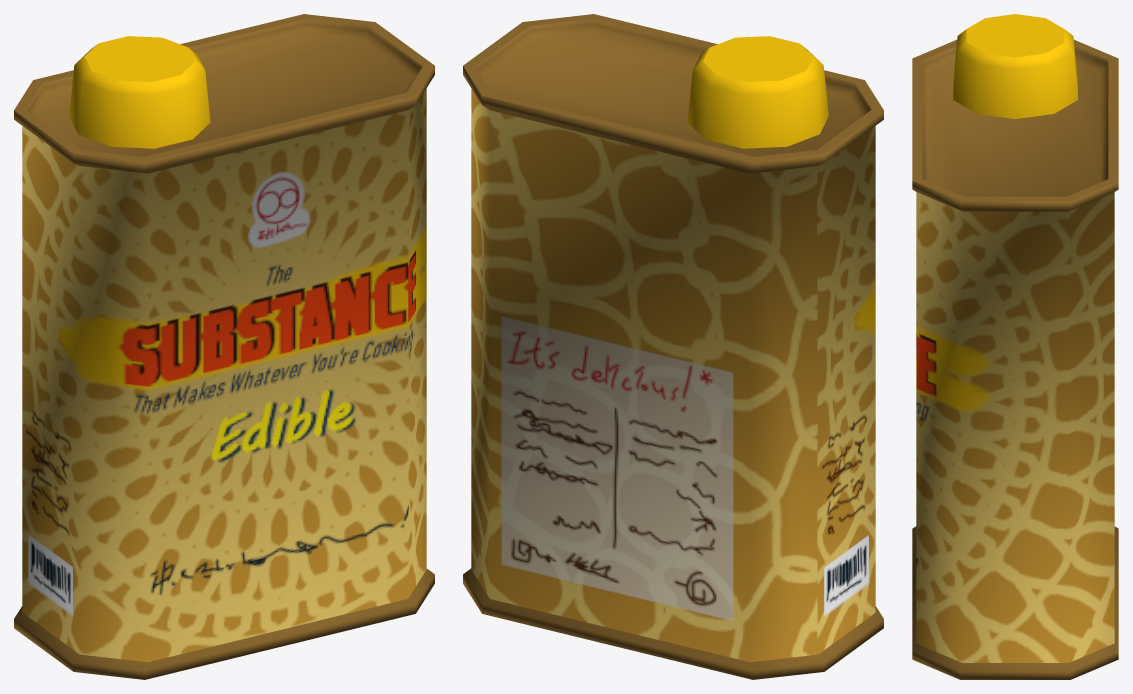
Rendered from TheSubstance.glb.
3 renders of one model, left to right at view 1: azimuth 30°, elevation 25°; view 2: azimuth 150°, elevation 25°; view 3: azimuth 270°, elevation 25°, orthographic. The views are drawn at different scales.
Parts seen in each view (by area): view 1: Cube; view 2: Cube; view 3: Cube.
Boxes of the visible parts, x1,y1,x2,y2 form: Cube: (14, 14, 434, 679); Cube: (463, 14, 883, 679); Cube: (912, 14, 1118, 679).
Size of the model in its own units: 0.358 by 0.5372 by 0.1918.
Materials: 1 (1 with a texture image).
